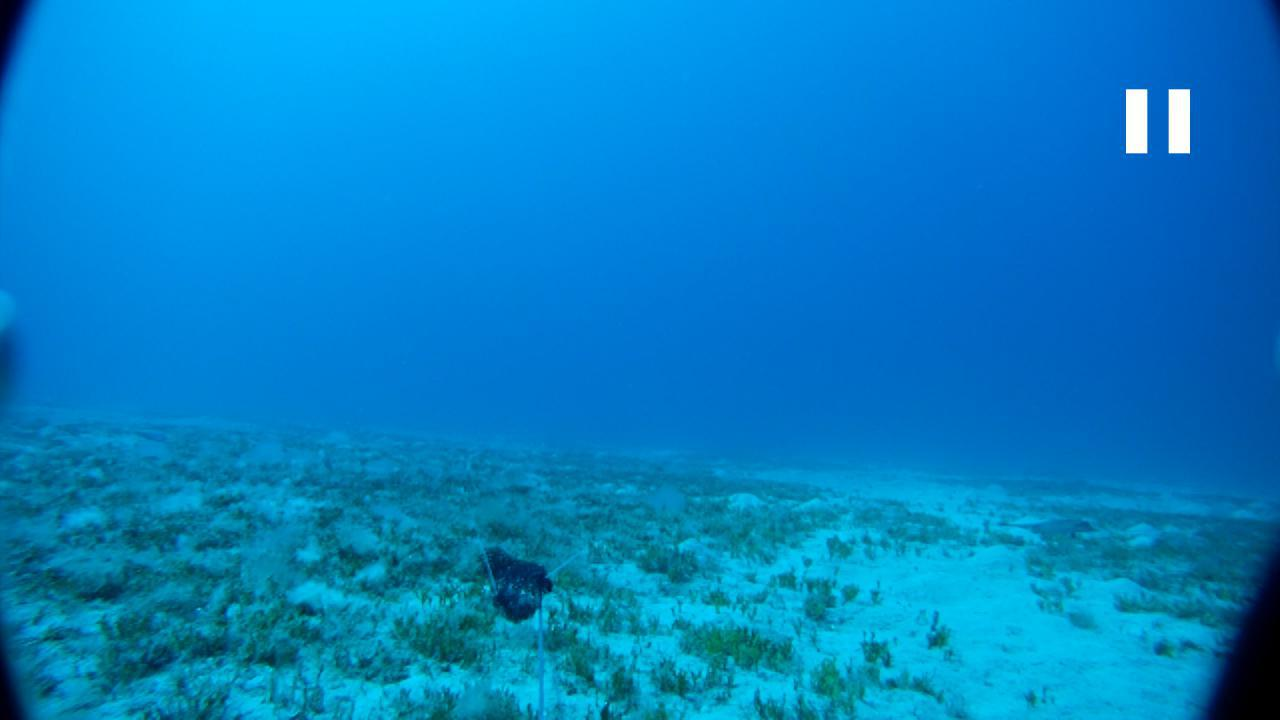dasyatis: (995, 517, 1098, 536)
